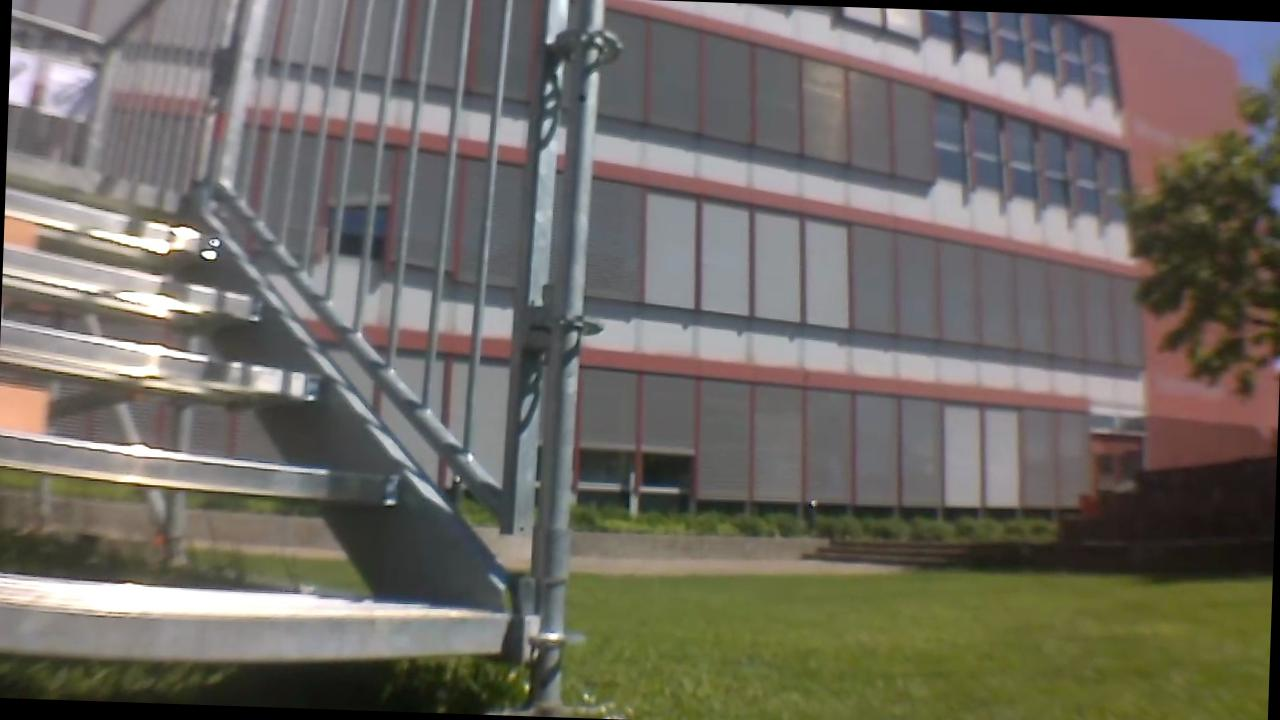edge: (1, 266, 268, 310), (3, 196, 227, 242)
